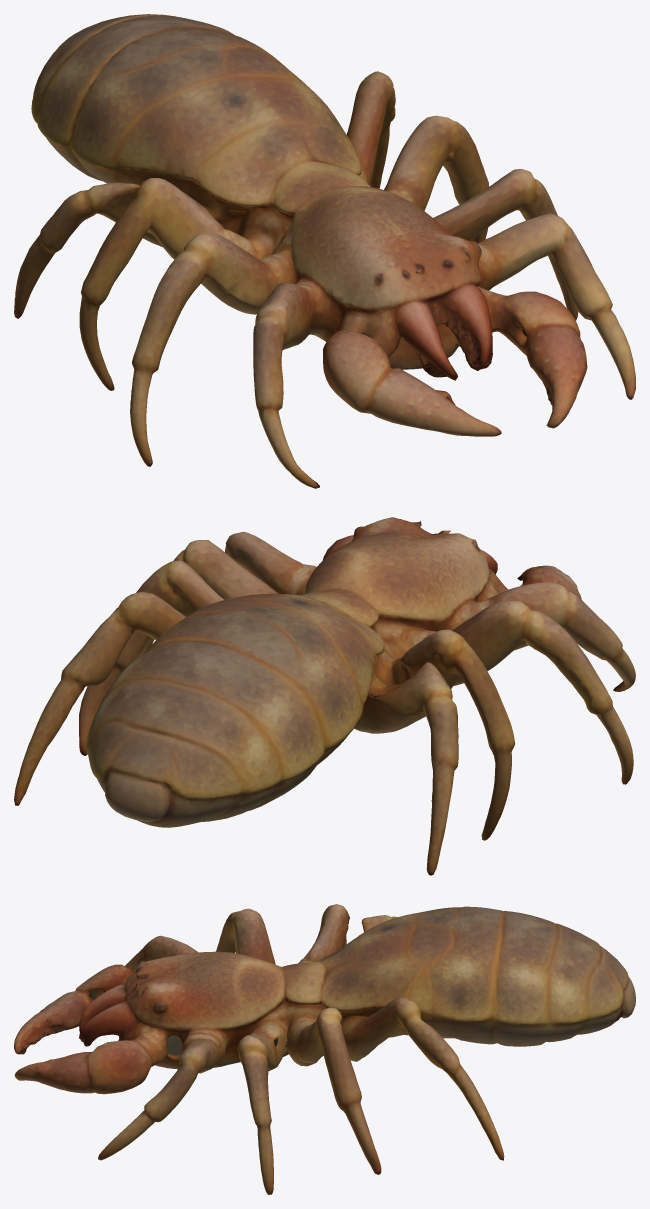
The picture shows the model from 3 angles, top to bottom: view 1: azimuth 30°, elevation 25°; view 2: azimuth 150°, elevation 25°; view 3: azimuth 270°, elevation 25°; orthographic projection. The views are drawn at different scales.
Parts seen in each view (by area): view 1: world; view 2: world; view 3: world.
Part boxes in pixels (left/top/right/bottom): world: left=14, top=14, right=635, bottom=488; world: left=14, top=517, right=635, bottom=875; world: left=14, top=904, right=635, bottom=1194.
Size of the model in its own units: 0.0122 by 0.00594 by 0.018.
Materials: 1 (1 with a texture image).
